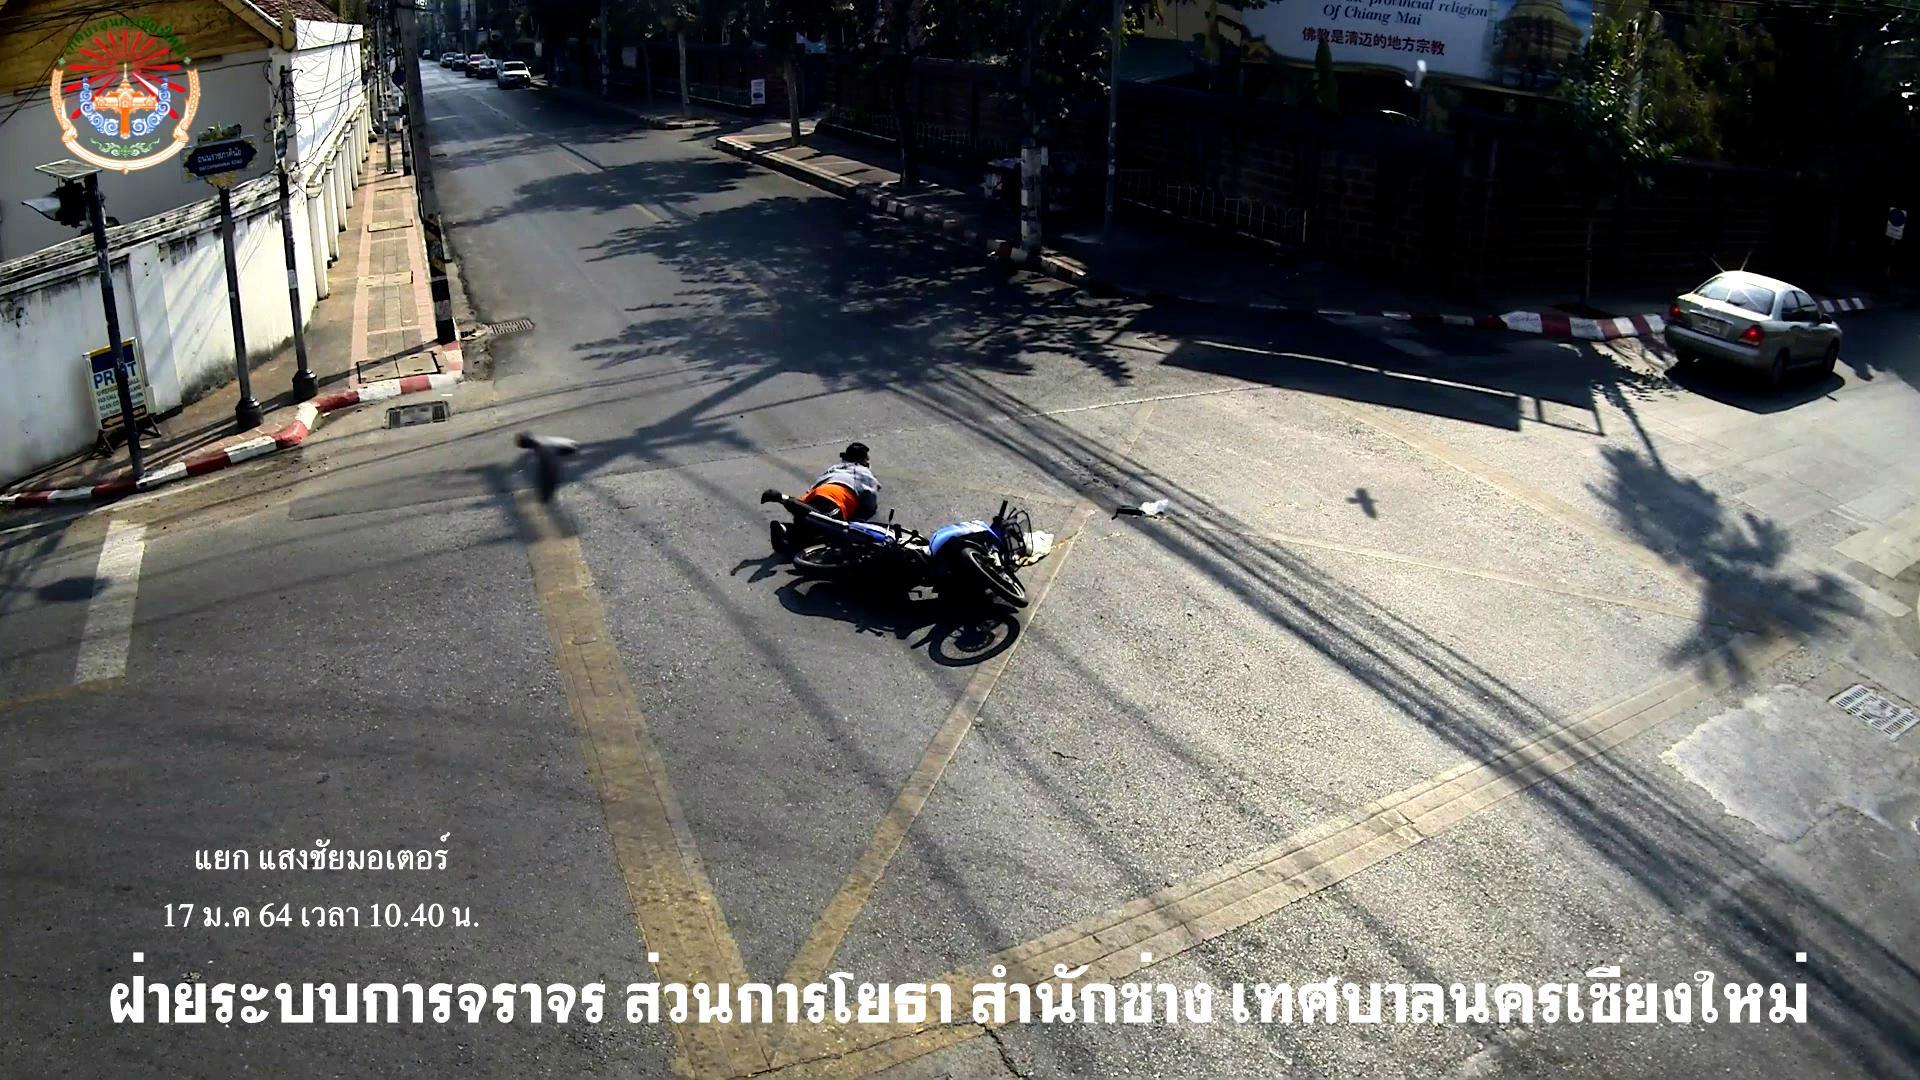accident: (761, 438, 878, 550)
